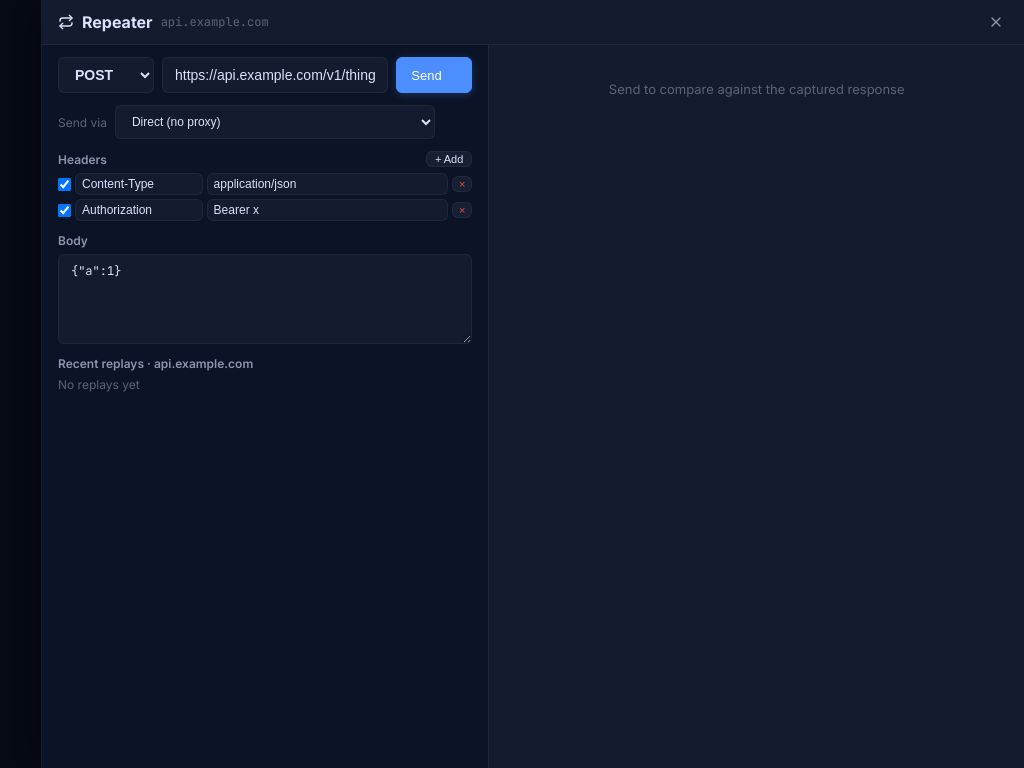
ReplayDrawer › surfaces an error response without rendering a diff
The image size is (1024, 768).
Click the button with test id "replay-send".
click(434, 75)  # box x1=396 y1=57 x2=472 y2=93
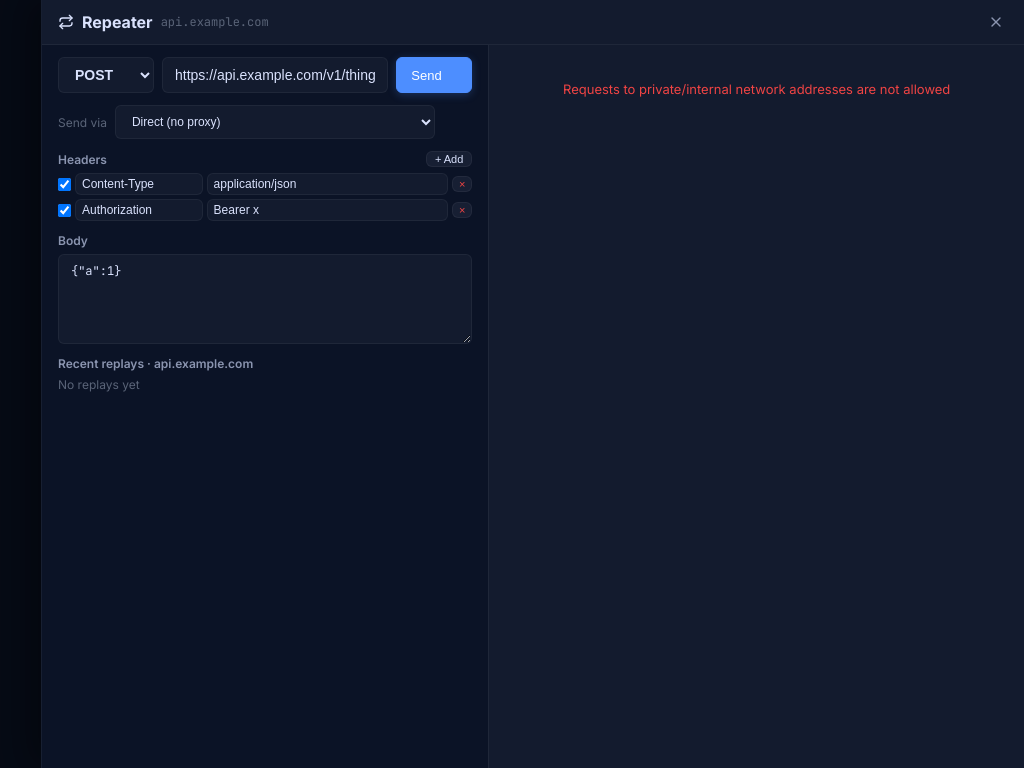
Expected: the text with test id "replay-error" shows "private/internal", x1=563 y1=81 x2=950 y2=97
